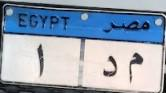1: (31, 43, 49, 75)
daal: (99, 54, 120, 78)
meem: (126, 51, 145, 84)
